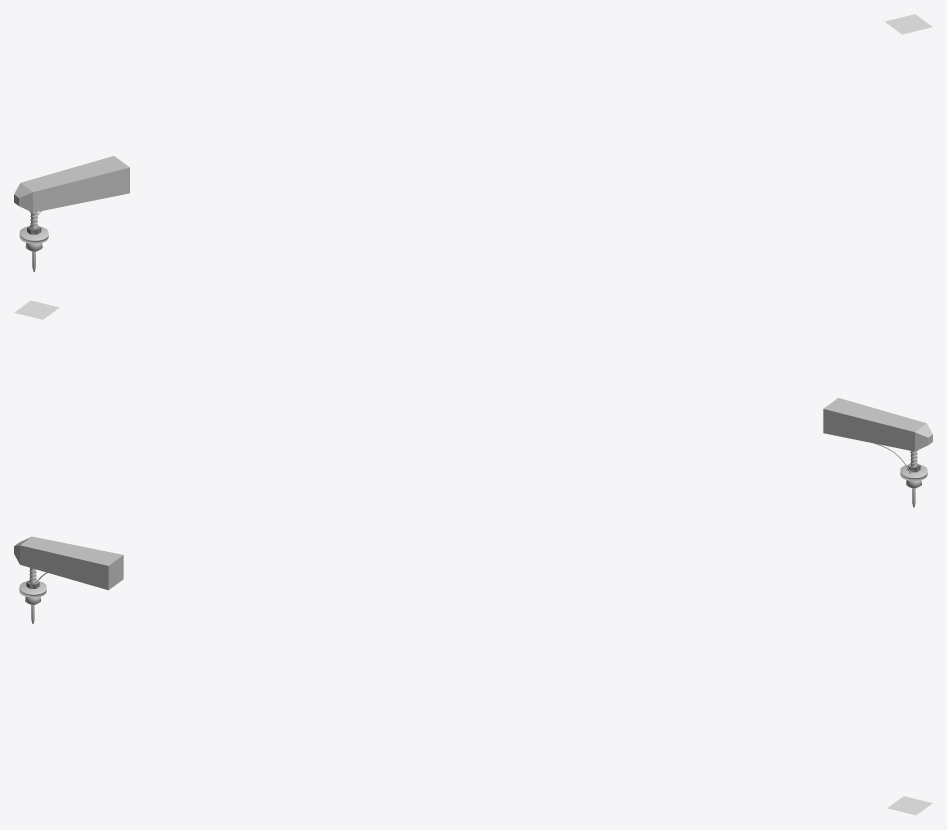
Rendered from Wasserstrahl.dae.
3 views of the same model, one above another, from view 1: azimuth 30°, elevation 25°; view 2: azimuth 150°, elevation 25°; view 3: azimuth 330°, elevation 25° (orthographic). The views are drawn at different scales.
Visible parts, largest first — view 1: Cube, Plane; view 2: Cube, Plane; view 3: Cube.
Boxes of the visible parts, box(x1,y1,x2,y2) form: Cube: box(14, 156, 129, 212); Plane: box(885, 14, 932, 34); Cube: box(823, 398, 932, 451); Plane: box(14, 300, 59, 319); Cube: box(14, 536, 123, 590).
Bounding box in the file's own units: 60.68 × 4.88 × 5.49.
